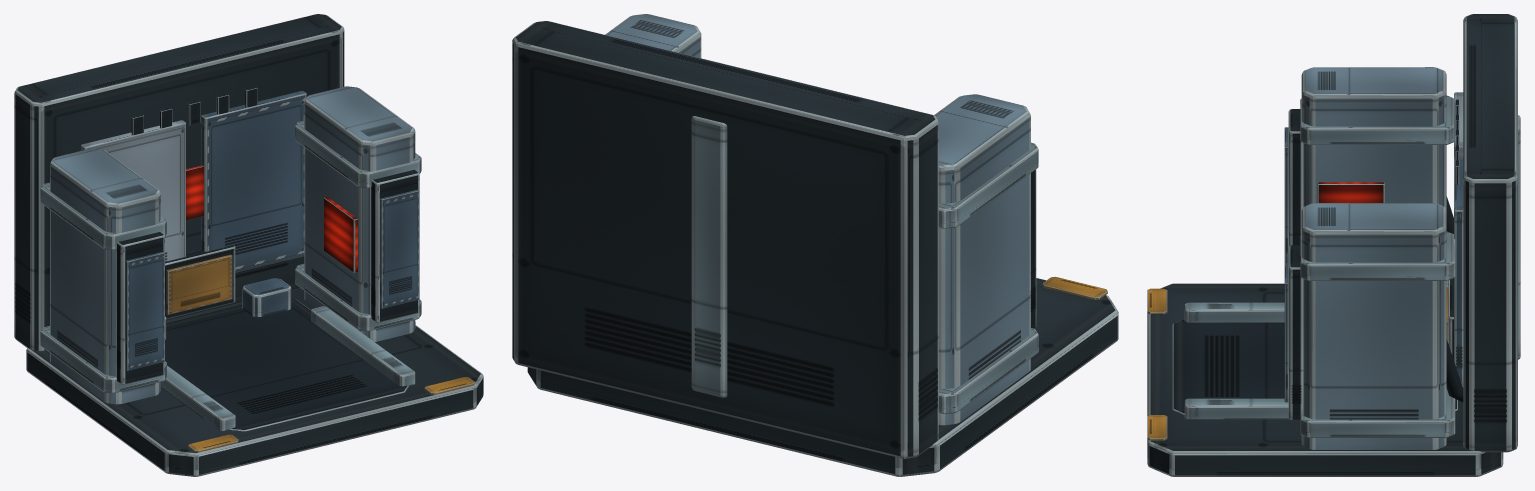
The model's file is V46_LightDock.fbx.
3 renders of one model, left to right at view 1: azimuth 30°, elevation 25°; view 2: azimuth 150°, elevation 25°; view 3: azimuth 270°, elevation 25°, orthographic. The views are drawn at different scales.
Visible parts, largest first — view 1: V46_LightDock; view 2: V46_LightDock; view 3: V46_LightDock.
Boxes of the visible parts, x1=… form: V46_LightDock: x1=14, y1=14, x2=483, y2=476; V46_LightDock: x1=512, y1=14, x2=1118, y2=476; V46_LightDock: x1=1147, y1=14, x2=1520, y2=476.
Size of the model in its own units: 2.8 by 2.28 by 2.6.
